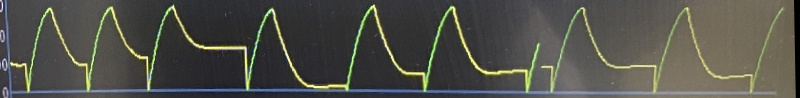leakage: (6, 0, 765, 98)
